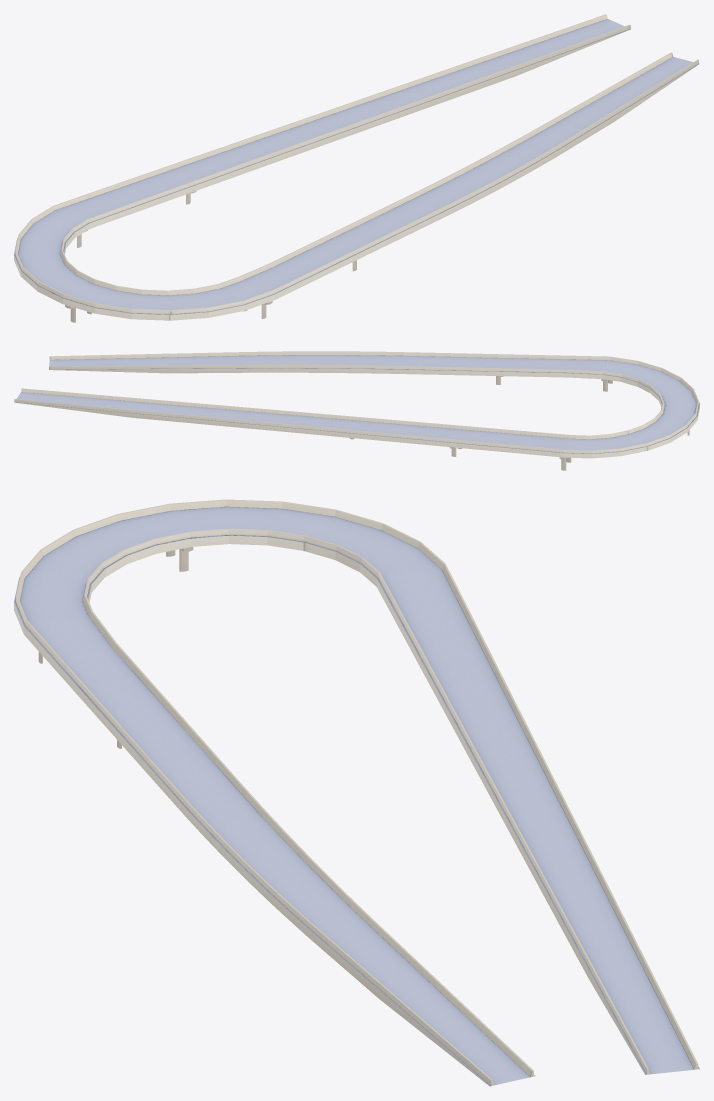
File: Raymbek-Shanina.glb
3 views of the same model, one above another, from view 1: azimuth 30°, elevation 25°; view 2: azimuth 150°, elevation 25°; view 3: azimuth 270°, elevation 25° (orthographic). The views are drawn at different scales.
Visible parts, largest first — view 1: SketchUp.002, SketchUp.005; view 2: SketchUp.005, SketchUp.002; view 3: SketchUp.002, SketchUp.005.
Boxes of the visible parts, <box> form: SketchUp.002: <box>14,19,699,314</box>; SketchUp.005: <box>14,14,698,320</box>; SketchUp.005: <box>14,351,699,458</box>; SketchUp.002: <box>14,355,699,453</box>; SketchUp.002: <box>14,506,699,1086</box>; SketchUp.005: <box>14,499,698,1085</box>.
Bounding box in the file's own units: 207 × 8.19 × 111.
Materials: 3 (3 with a texture image).
